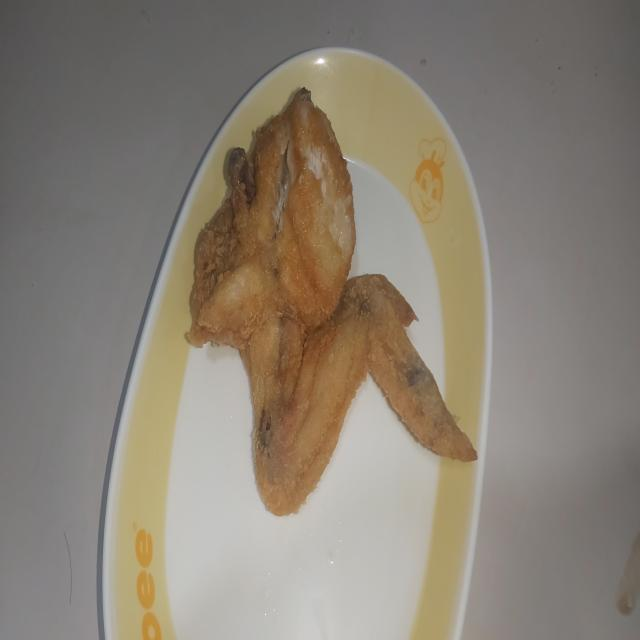Chicken -Fried Chicken-: (174, 73, 483, 519)
